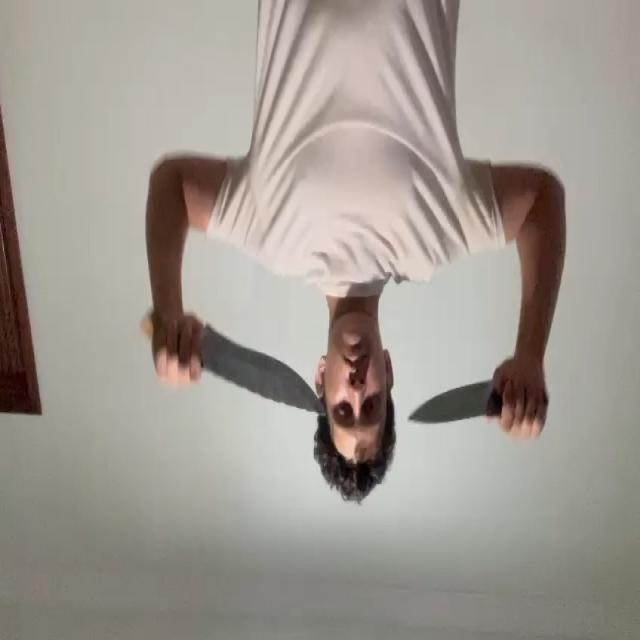knife: (200, 328, 326, 418), (408, 381, 492, 423)
